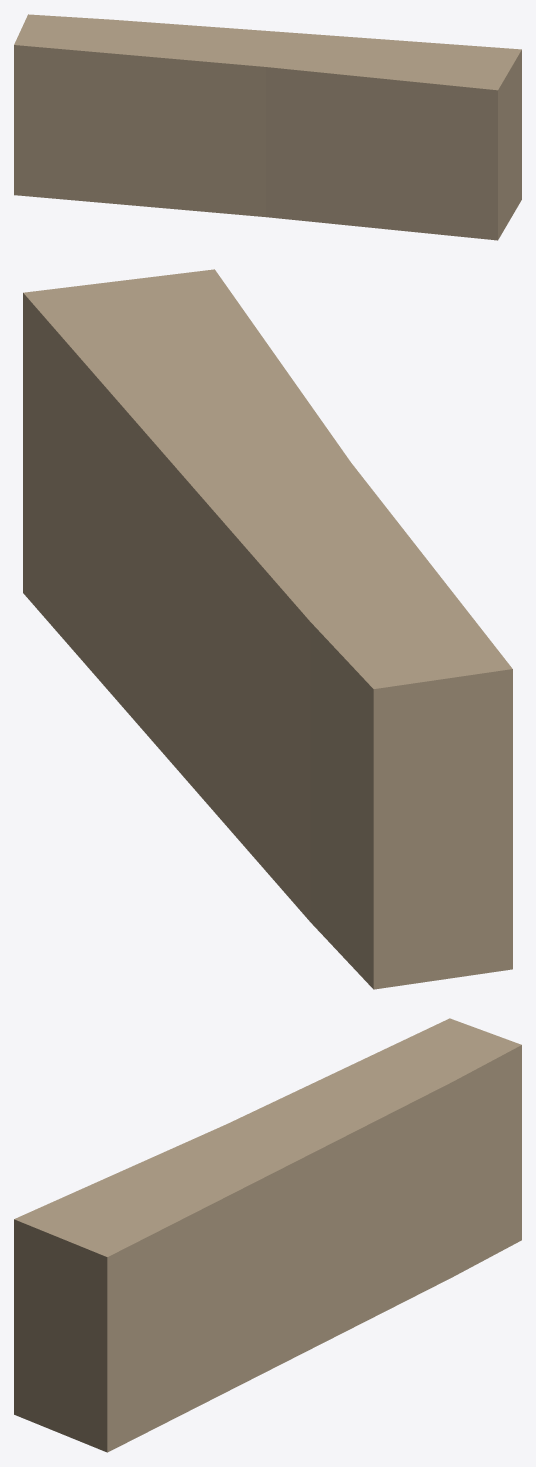
File: bld_99007823.dae
3 renders of one model, top to bottom at view 1: azimuth 30°, elevation 25°; view 2: azimuth 150°, elevation 25°; view 3: azimuth 270°, elevation 25°, orthographic. The views are drawn at different scales.
Visible parts, largest first — view 1: The Little Shop of Sweets and Treats; view 2: The Little Shop of Sweets and Treats; view 3: The Little Shop of Sweets and Treats.
Part boxes in pixels (left/top/right/bottom): The Little Shop of Sweets and Treats: left=14, top=14, right=521, bottom=240; The Little Shop of Sweets and Treats: left=23, top=269, right=512, bottom=989; The Little Shop of Sweets and Treats: left=14, top=1018, right=521, bottom=1452.
Size of the model in its own units: 20.98 by 18.85 by 8.
